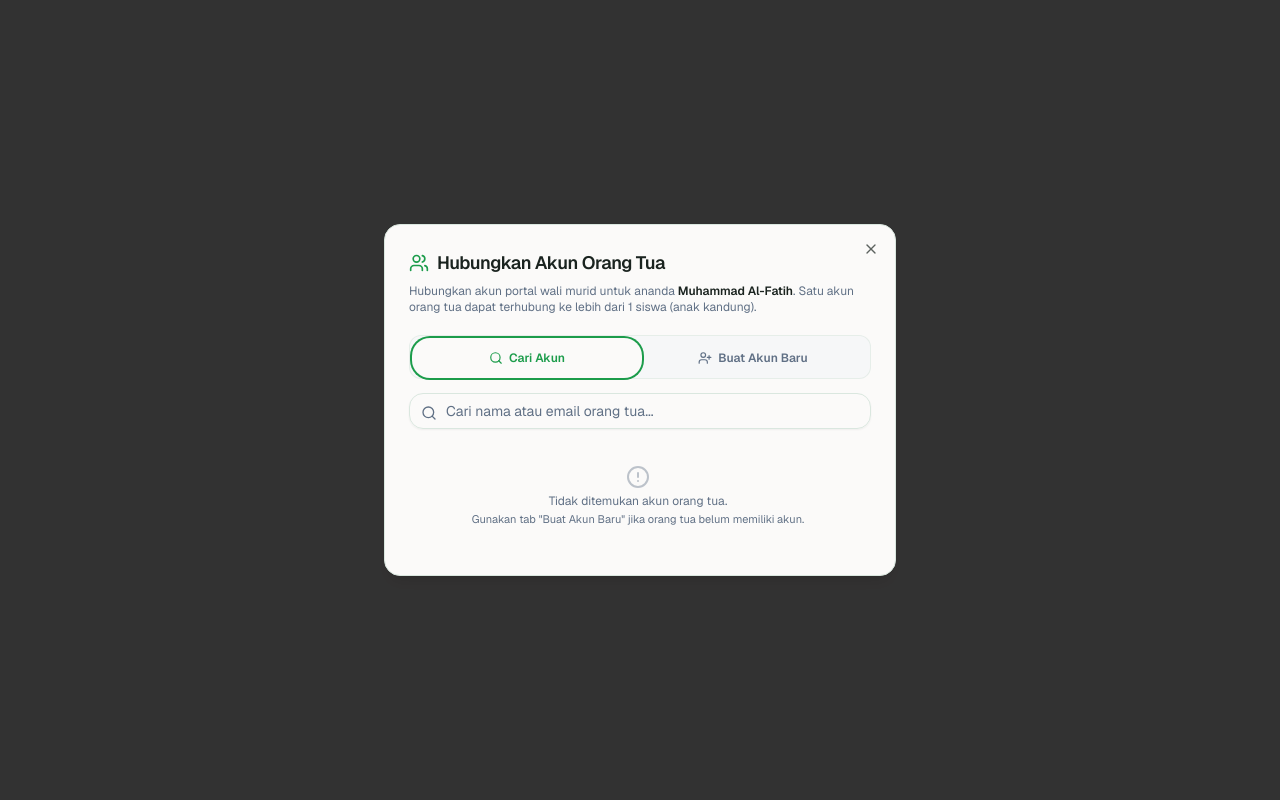
Scenario: LinkParentModal Component › searches existing parent profiles and displays results with multi-child indicators
Step 1. Type "Bambang" into the field with placeholder "Cari nama atau email orang tua..." → [640, 411], box [409, 393, 871, 429]
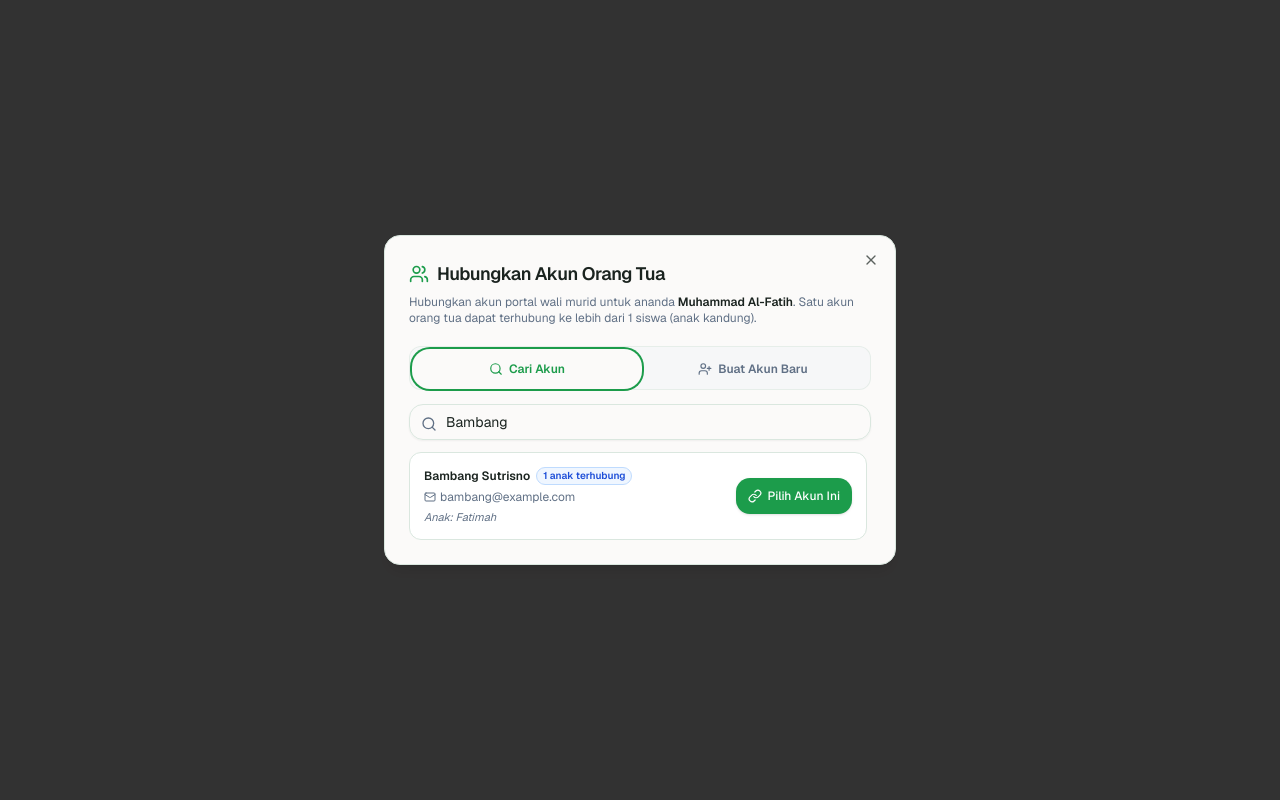
expect the text "Bambang Sutrisno" is shown: met, box [424, 468, 530, 484]
expect the text "bambang@example.com" is shown: met, box [440, 489, 575, 505]
expect the text "1 anak terhubung" is shown: met, box [536, 467, 632, 485]
